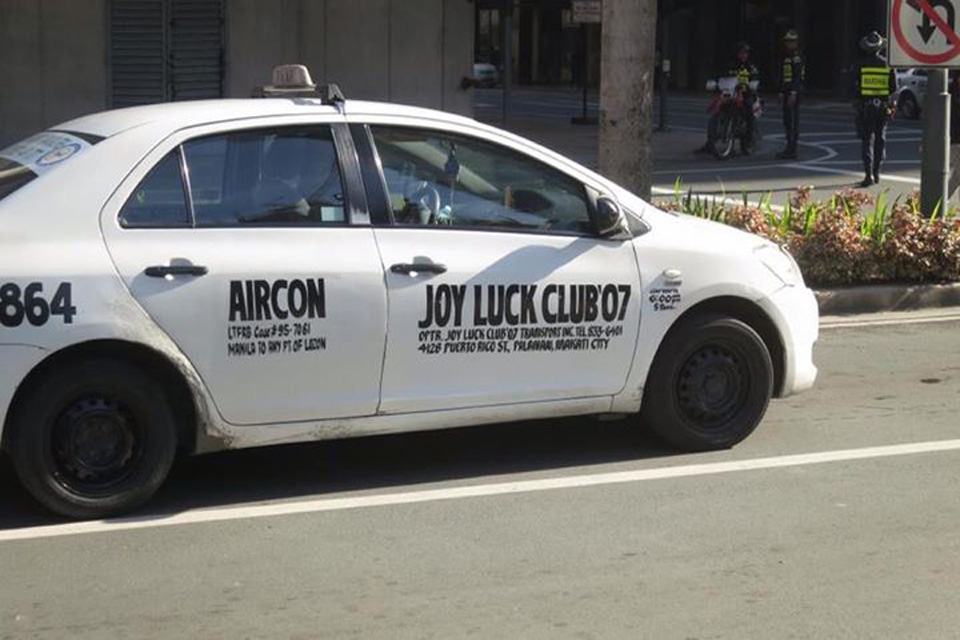bike: (709, 79, 761, 152)
car: (2, 63, 819, 510)
person: (854, 30, 886, 185), (780, 32, 804, 158)
pole: (599, 1, 654, 200), (924, 71, 948, 212)
